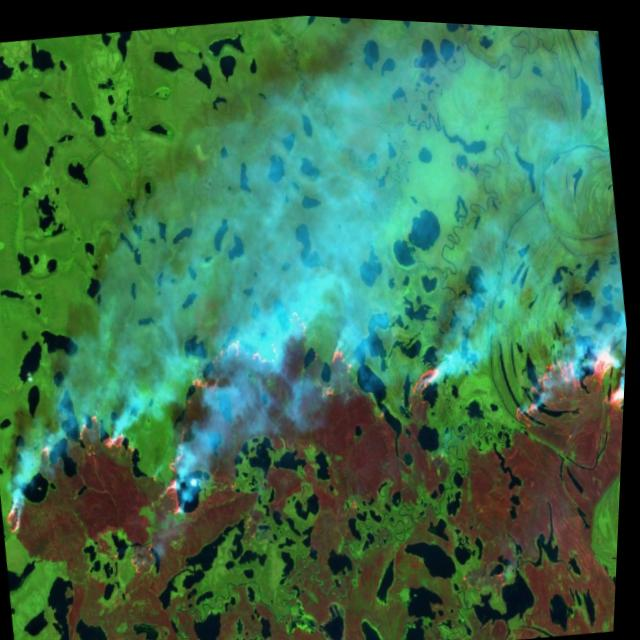fire: (0, 240, 632, 620)
